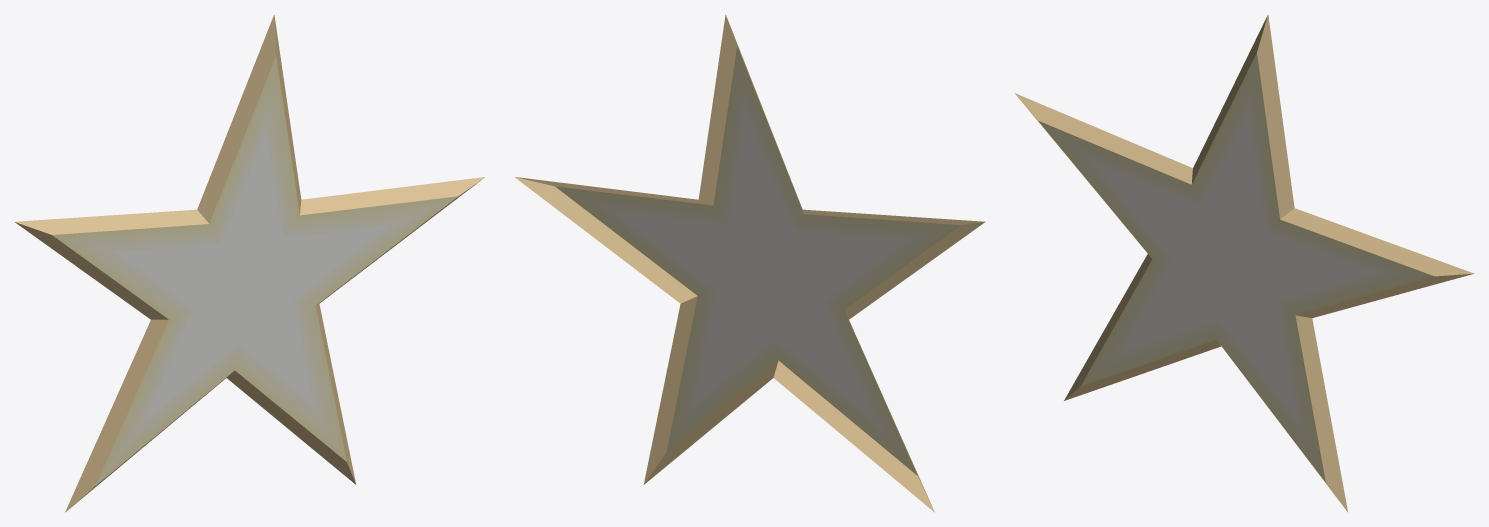
Rendered from FrankyStarFront_0.glb.
The picture shows the model from 3 angles, left to right: view 1: azimuth 30°, elevation 25°; view 2: azimuth 150°, elevation 25°; view 3: azimuth 330°, elevation 25°; orthographic projection. The views are drawn at different scales.
Parts seen in each view (by area): view 1: FrankyStarFront; view 2: FrankyStarFront; view 3: FrankyStarFront.
Part boxes in pixels (left/top/right/bottom): FrankyStarFront: left=14, top=15, right=484, bottom=512; FrankyStarFront: left=515, top=15, right=985, bottom=512; FrankyStarFront: left=1014, top=14, right=1474, bottom=511.
Size of the model in its own units: 0.5813 by 0.5784 by 0.0144.
